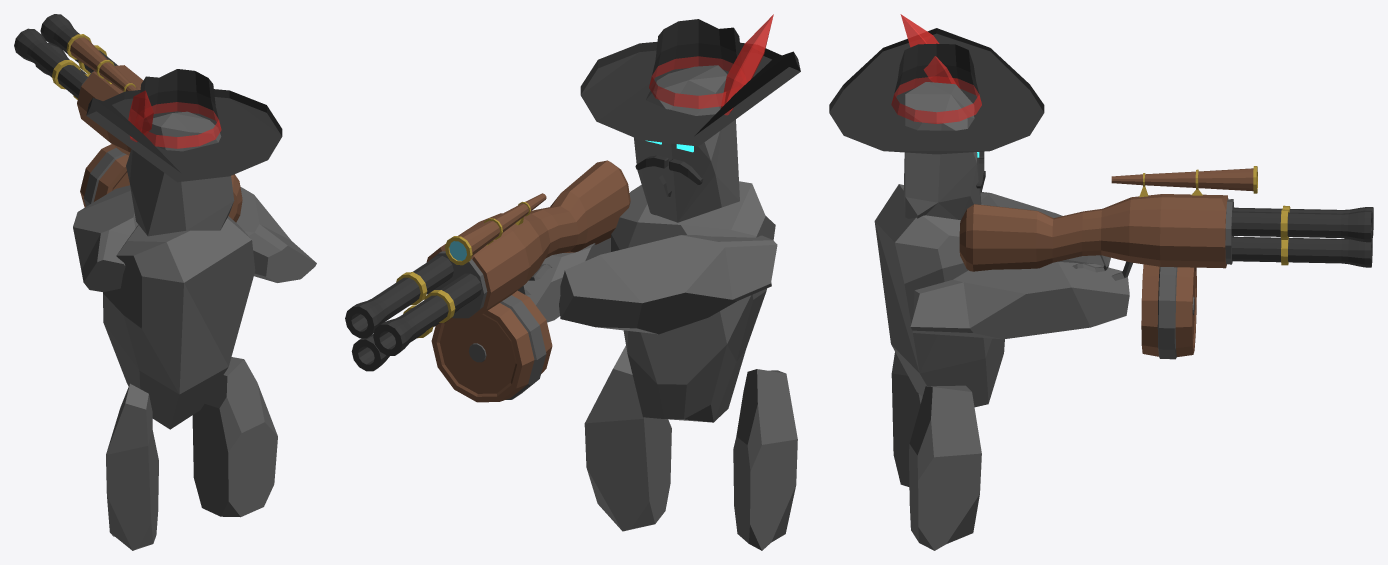
The model's file is musket golem3.fbx.
3 renders of one model, left to right at view 1: azimuth 30°, elevation 25°; view 2: azimuth 150°, elevation 25°; view 3: azimuth 270°, elevation 25°, orthographic. The views are drawn at different scales.
Parts seen in each view (by area): view 1: Cube.003; view 2: Cube.003; view 3: Cube.003.
Part boxes in pixels (x1,y1,x2,y2): Cube.003: (14, 14, 316, 550); Cube.003: (345, 14, 800, 550); Cube.003: (829, 14, 1373, 550).
Bounding box in the file's own units: 369 × 770 × 808.
